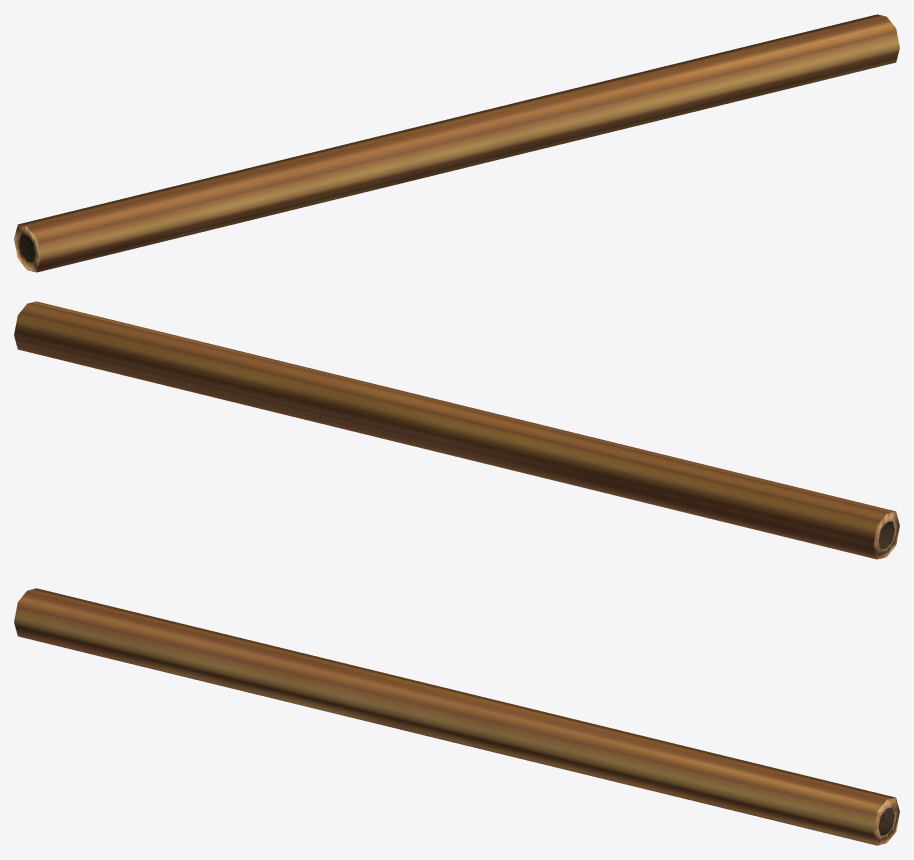
Rendered from zara_maya.dae.
3 renders of one model, top to bottom at view 1: azimuth 30°, elevation 25°; view 2: azimuth 150°, elevation 25°; view 3: azimuth 330°, elevation 25°, orthographic.
Visible parts, largest first — view 1: zarab_maya; view 2: zarab_maya; view 3: zarab_maya.
Part boxes in pixels (left/top/right/bottom): zarab_maya: left=14, top=14, right=899, bottom=272; zarab_maya: left=14, top=301, right=899, bottom=559; zarab_maya: left=14, top=588, right=899, bottom=845.
Bounding box in the file's own units: 3.04 × 0.1627 × 0.149.
1 material, 1 textured.
